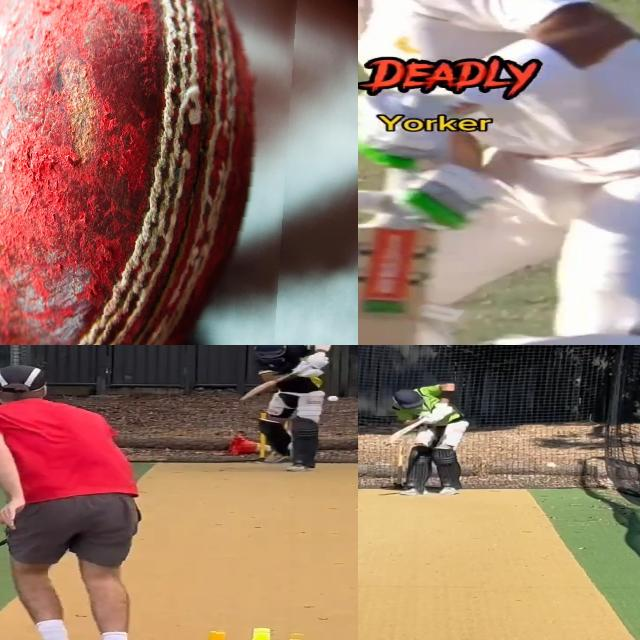Cricket ball: (0, 0, 304, 345), (326, 395, 340, 403), (544, 462, 559, 468)
